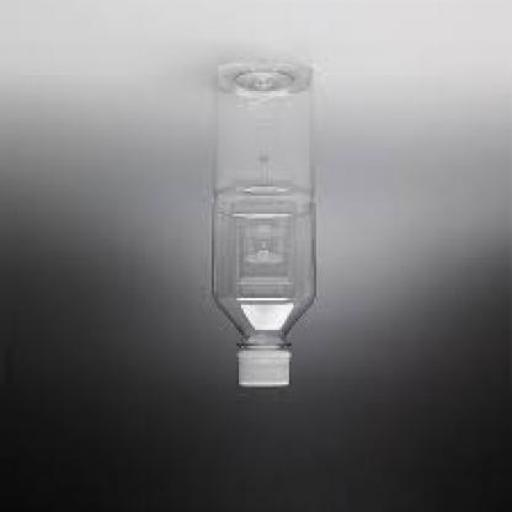plastic: (210, 61, 316, 389), (235, 350, 291, 387)
